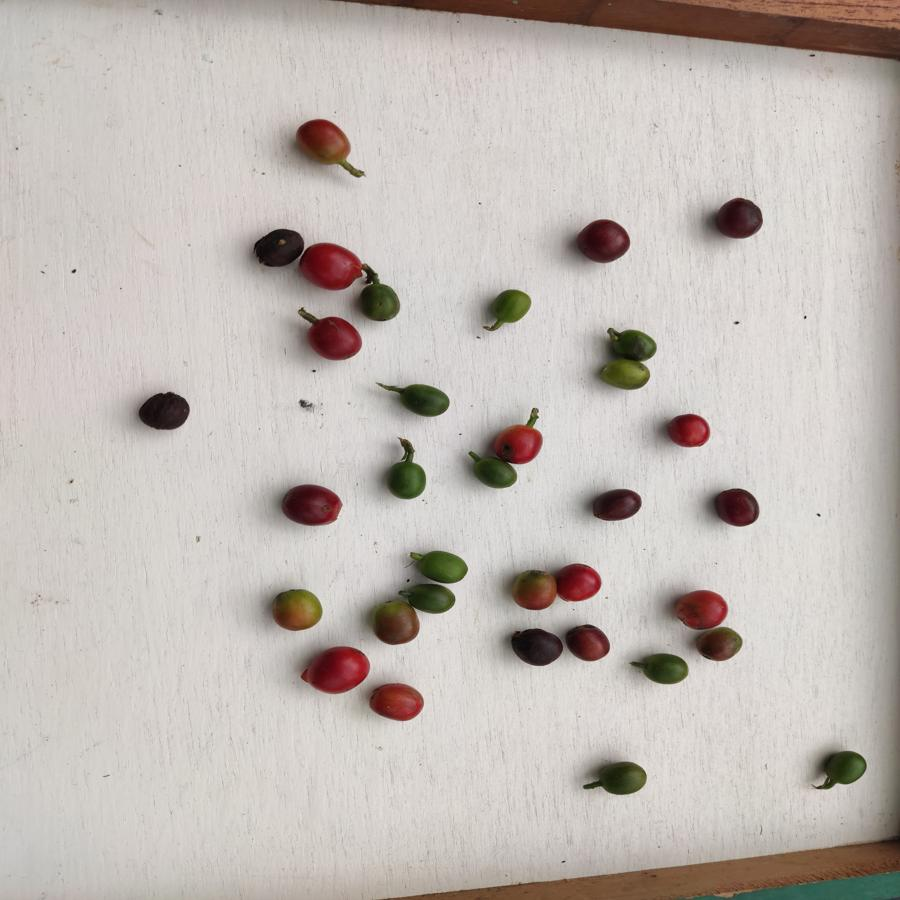Inmaduro: (603, 324, 665, 363), (415, 547, 473, 585), (398, 382, 454, 420), (594, 760, 651, 797), (819, 751, 870, 791), (385, 459, 432, 502), (406, 578, 458, 616), (642, 650, 691, 690), (360, 281, 403, 325), (472, 456, 519, 490)
Maduro: (307, 642, 370, 698), (304, 310, 362, 366), (296, 242, 364, 288), (370, 682, 429, 727), (672, 589, 731, 632), (491, 421, 542, 465), (662, 411, 714, 452), (557, 563, 603, 606)
Pinton: (293, 117, 360, 175), (371, 598, 420, 650), (269, 589, 325, 632), (592, 355, 651, 395), (511, 568, 556, 614), (491, 288, 531, 327)
Sobremaduro: (570, 218, 633, 264), (278, 484, 344, 525), (712, 196, 768, 242), (508, 627, 565, 668), (560, 622, 616, 662), (251, 227, 303, 269), (592, 486, 645, 525), (713, 489, 763, 529), (140, 394, 193, 431)
